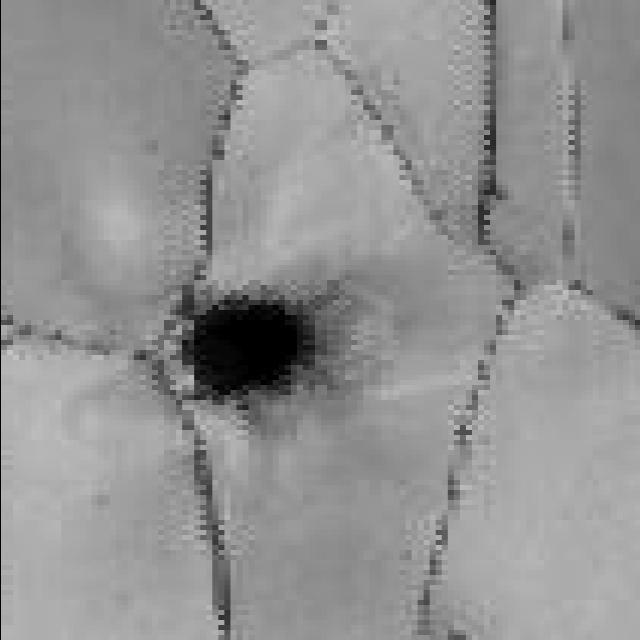good_void: (132, 270, 349, 426)
